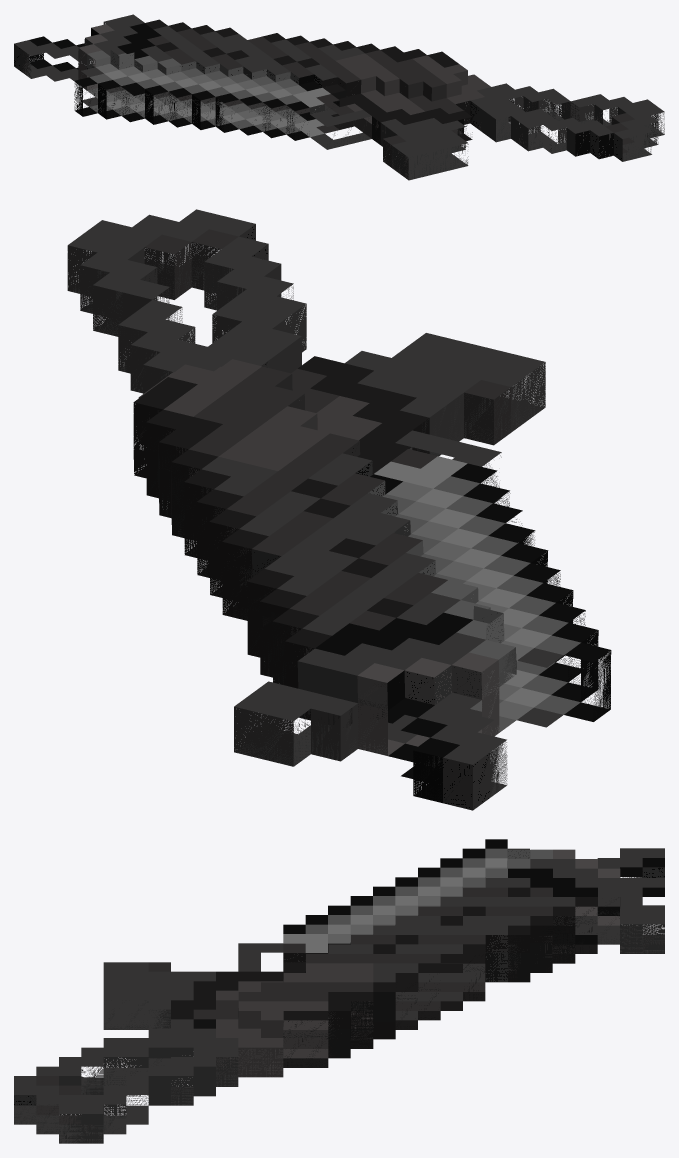
3 renders of one model, top to bottom at view 1: azimuth 30°, elevation 25°; view 2: azimuth 150°, elevation 25°; view 3: azimuth 270°, elevation 25°, orthographic. The views are drawn at different scales.
Visible parts, largest first — view 1: 平面; view 2: 平面; view 3: 平面.
Boxes of the visible parts, x1,y1,x2,y2 form: 平面: (14, 14, 664, 180); 平面: (67, 209, 611, 810); 平面: (14, 839, 664, 1143).
Bounding box in the file's own units: 175 × 17.43 × 181.
